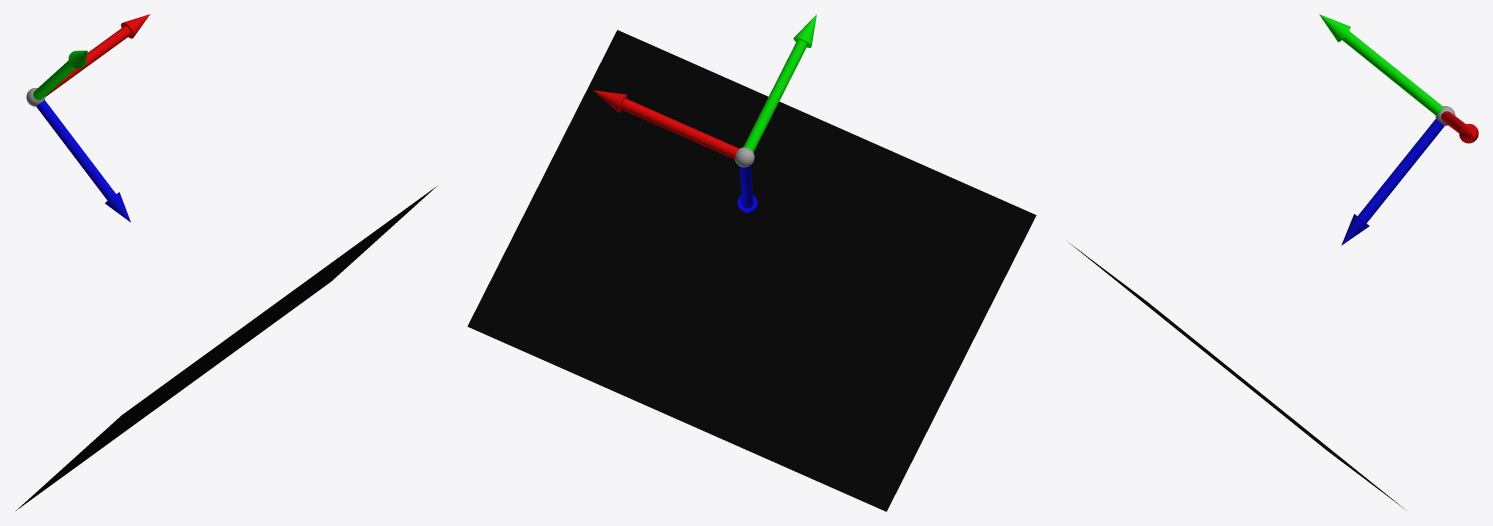
3 views of the same model, side by side, from view 1: azimuth 30°, elevation 25°; view 2: azimuth 150°, elevation 25°; view 3: azimuth 270°, elevation 25° (orthographic). The views are drawn at different scales.
Bounding box in the file's own units: 0.34 × 0.3911 × 0.3102.
